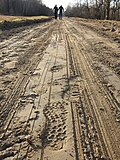human_footprint: (40, 102, 69, 150), (66, 72, 88, 103), (48, 58, 64, 74)
